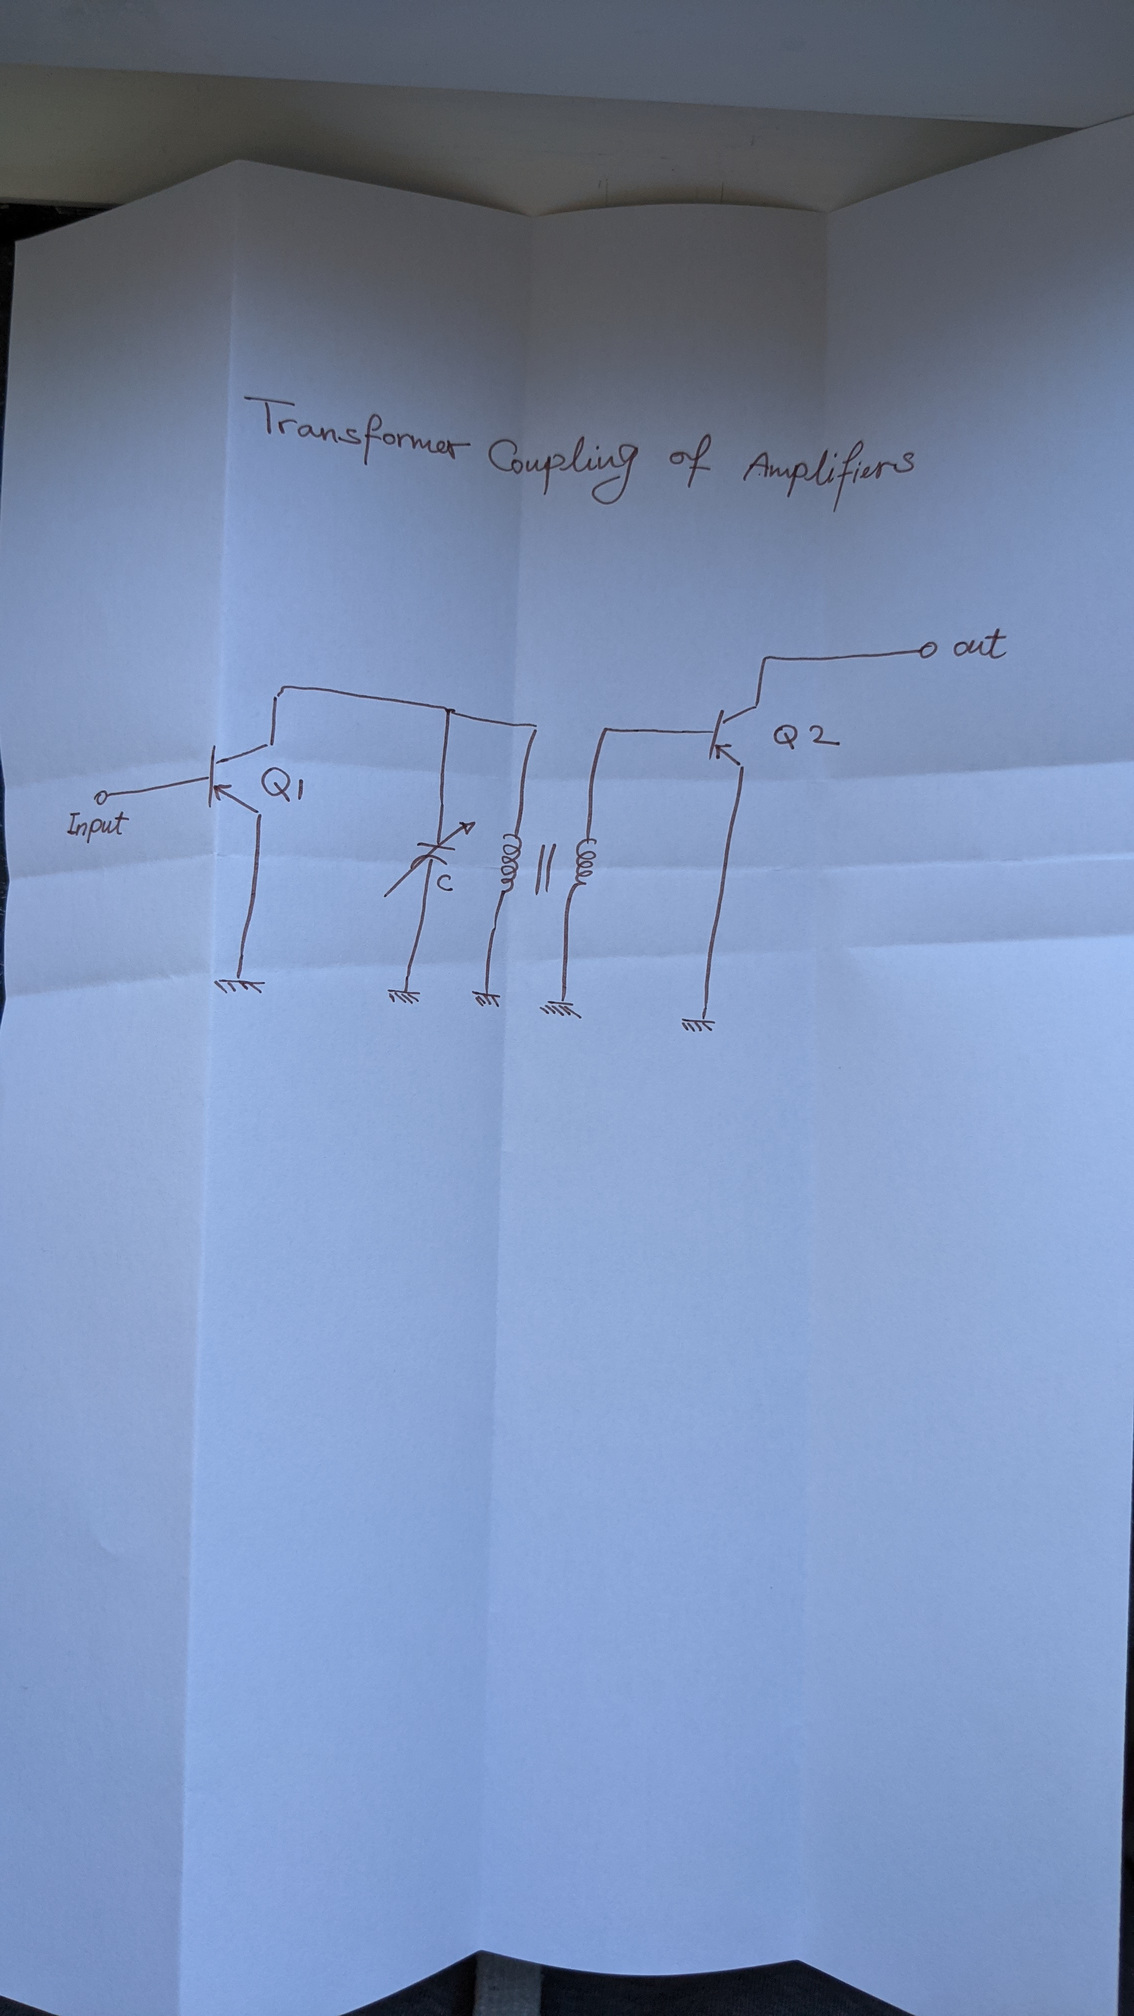capacitor.unpolarized: (382, 820, 478, 899)
gnd: (210, 973, 269, 997), (539, 997, 586, 1020), (385, 984, 424, 1007), (678, 1015, 719, 1036), (469, 987, 505, 1009)
junction: (271, 681, 289, 701), (439, 703, 458, 716), (600, 724, 613, 737), (530, 721, 541, 734), (759, 654, 771, 665)
terminal: (917, 640, 939, 660), (91, 788, 109, 807)
text: (240, 392, 917, 514), (65, 809, 130, 845), (773, 721, 843, 750), (953, 626, 1009, 662), (258, 764, 306, 806), (433, 872, 458, 894)
transformer: (498, 832, 600, 894)
transistor: (204, 739, 278, 818), (706, 701, 762, 770)
